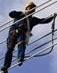boots: (1, 65, 8, 73), (17, 57, 23, 65)
hard-hat: (25, 0, 36, 12)
ppe-suit: (1, 9, 55, 70)
